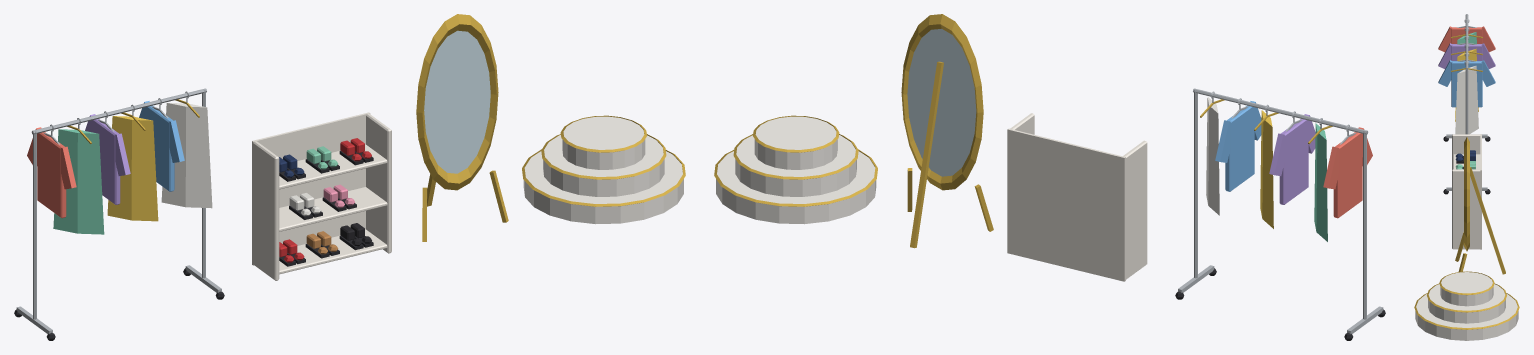
The model's file is harbor_boutique_props_v01.glb.
3 renders of one model, left to right at view 1: azimuth 30°, elevation 25°; view 2: azimuth 150°, elevation 25°; view 3: azimuth 270°, elevation 25°, orthographic. The views are drawn at different scales.
Visible parts, largest first — view 1: clothes_rack, shoe_shelf, display_podium, standing_mirror; view 2: shoe_shelf, clothes_rack, display_podium, standing_mirror; view 3: display_podium, clothes_rack, shoe_shelf, standing_mirror.
Boxes of the visible parts, x1=… form: clothes_rack: x1=14, y1=88, x2=224, y2=340; shoe_shelf: x1=252, y1=112, x2=391, y2=280; display_podium: x1=522, y1=115, x2=685, y2=224; standing_mirror: x1=416, y1=14, x2=508, y2=241; shoe_shelf: x1=1007, y1=113, x2=1147, y2=281; clothes_rack: x1=1175, y1=88, x2=1385, y2=340; display_podium: x1=714, y1=115, x2=877, y2=224; standing_mirror: x1=901, y1=14, x2=993, y2=248; display_podium: x1=1414, y1=271, x2=1519, y2=340; clothes_rack: x1=1438, y1=14, x2=1495, y2=194; shoe_shelf: x1=1452, y1=134, x2=1481, y2=249; standing_mirror: x1=1455, y1=137, x2=1505, y2=274.
Size of the model in its own units: 5.71 by 1.8 by 1.27.
